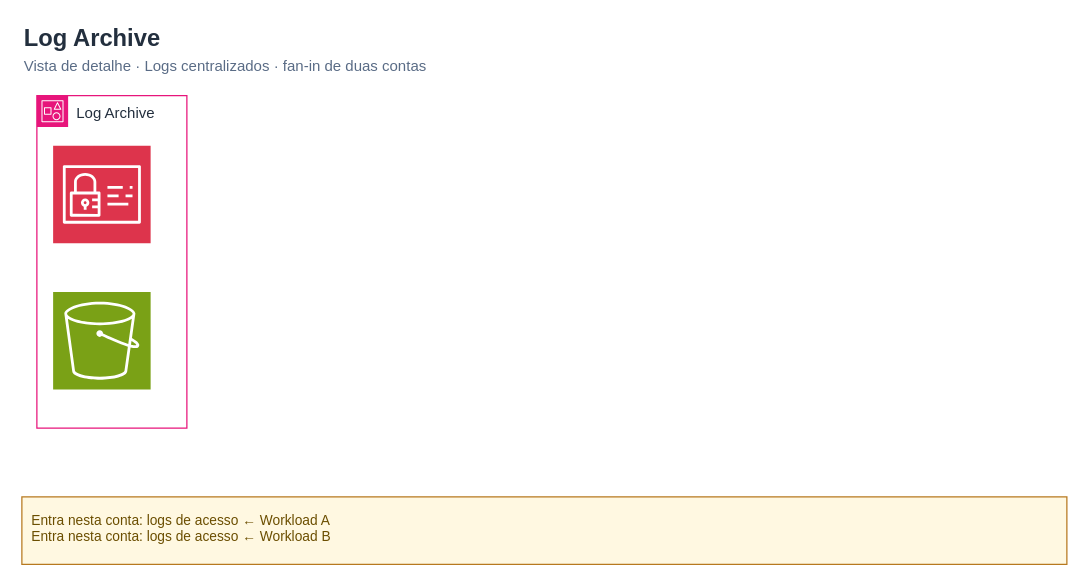
Image size: 1089x586. Some labels were removed from this diagram. Each missing label, with the centre of its shape:
"Bucket policy" belongs at point 101,193.
"Log bucket" belongs at point 101,340.
